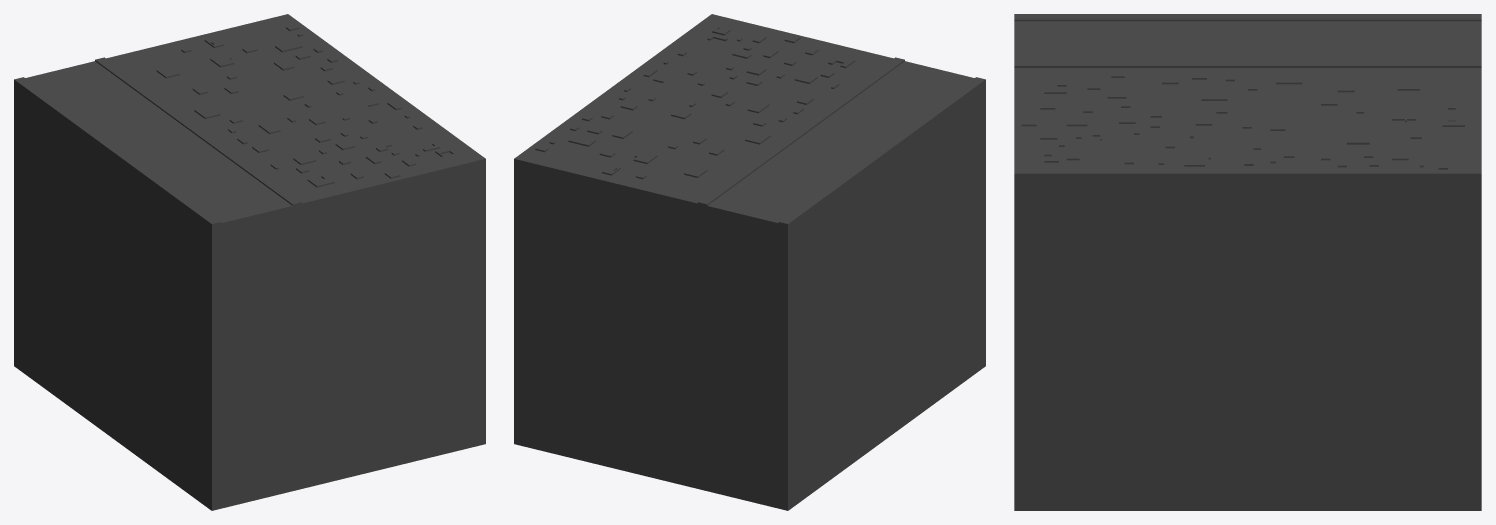
The model's file is Roads-3.obj.
3 renders of one model, left to right at view 1: azimuth 30°, elevation 25°; view 2: azimuth 150°, elevation 25°; view 3: azimuth 270°, elevation 25°, orthographic. The views are drawn at different scales.
Size of the model in its own units: 20 by 20 by 25.
